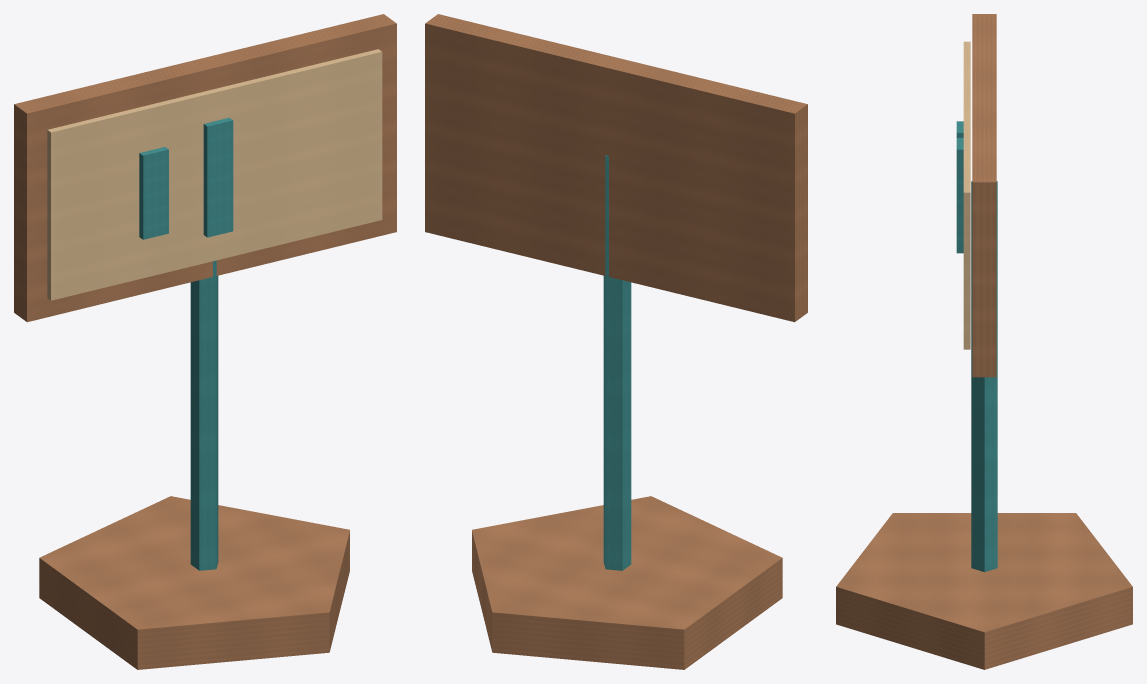
Rendered from atlas100-s091-a11.lod1.glb.
The picture shows the model from 3 angles, left to right: view 1: azimuth 30°, elevation 25°; view 2: azimuth 150°, elevation 25°; view 3: azimuth 270°, elevation 25°; orthographic projection. The views are drawn at different scales.
Visible parts, largest first — view 1: atlas100-s091-a11:part-003, atlas100-s091-a11:part-000, atlas100-s091-a11:part-002, atlas100-s091-a11:part-001, atlas100-s091-a11:part-005, atlas100-s091-a11:part-004; view 2: atlas100-s091-a11:part-002, atlas100-s091-a11:part-000, atlas100-s091-a11:part-001; view 3: atlas100-s091-a11:part-000, atlas100-s091-a11:part-002, atlas100-s091-a11:part-001, atlas100-s091-a11:part-003, atlas100-s091-a11:part-005.
Boxes of the visible parts, x1,y1,x2,y2 form: atlas100-s091-a11:part-003: (47,49,382,300); atlas100-s091-a11:part-000: (39,496,349,669); atlas100-s091-a11:part-002: (14,14,396,322); atlas100-s091-a11:part-001: (190,260,218,570); atlas100-s091-a11:part-005: (203,117,233,237); atlas100-s091-a11:part-004: (139,147,168,239); atlas100-s091-a11:part-002: (425,14,807,322); atlas100-s091-a11:part-000: (472,496,782,669); atlas100-s091-a11:part-001: (603,155,631,570); atlas100-s091-a11:part-000: (836,513,1132,669); atlas100-s091-a11:part-002: (972,14,996,377); atlas100-s091-a11:part-001: (971,181,997,571); atlas100-s091-a11:part-003: (963,41,970,349); atlas100-s091-a11:part-005: (956,138,963,253).
Size of the model in its own units: 1.15 by 1.61 by 0.856.
3 materials, 3 textured.
